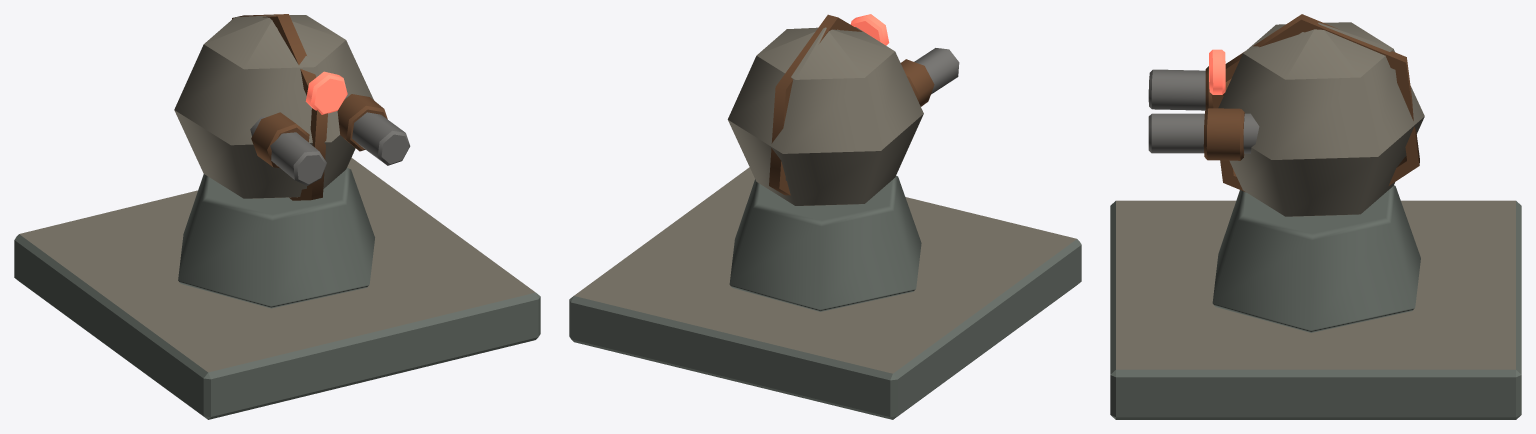
Rendered from R4X_PointDefense_LOD1.fbx.
The picture shows the model from 3 angles, left to right: view 1: azimuth 30°, elevation 25°; view 2: azimuth 150°, elevation 25°; view 3: azimuth 270°, elevation 25°; orthographic projection. The views are drawn at different scales.
Visible parts, largest first — view 1: R4X_PointDefense_LOD1; view 2: R4X_PointDefense_LOD1; view 3: R4X_PointDefense_LOD1.
Boxes of the visible parts, <box> form: R4X_PointDefense_LOD1: <box>14,14,540,419</box>; R4X_PointDefense_LOD1: <box>569,14,1081,419</box>; R4X_PointDefense_LOD1: <box>1110,14,1521,419</box>.
Bounding box in the file's own units: 0.52 × 0.4435 × 0.52.
